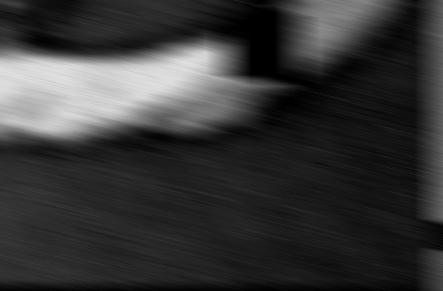Airbag: (0, 0, 443, 290), (431, 0, 443, 229)
